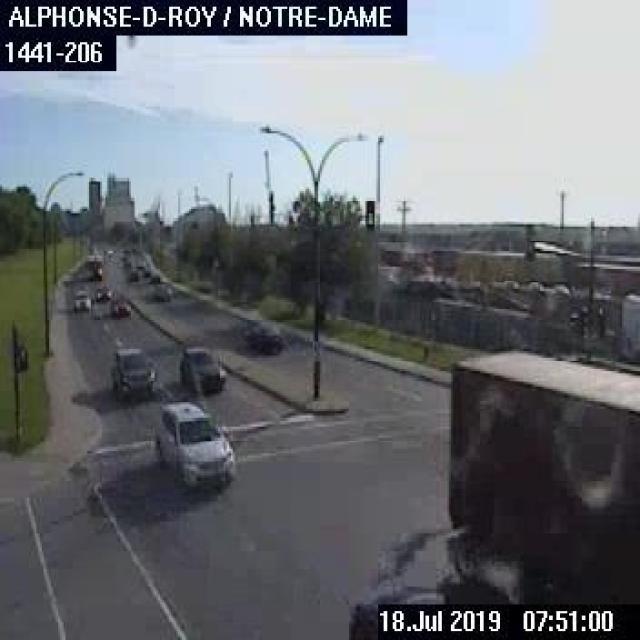vehicle: (443, 347, 638, 638), (154, 395, 234, 489), (177, 342, 226, 391), (113, 342, 156, 396), (244, 318, 282, 349), (69, 289, 94, 316), (107, 293, 130, 319), (146, 280, 173, 302), (91, 279, 112, 302), (84, 253, 102, 278), (146, 267, 159, 282)
